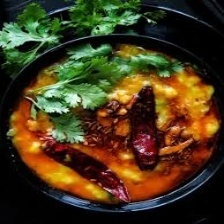dal: (7, 38, 224, 206)
